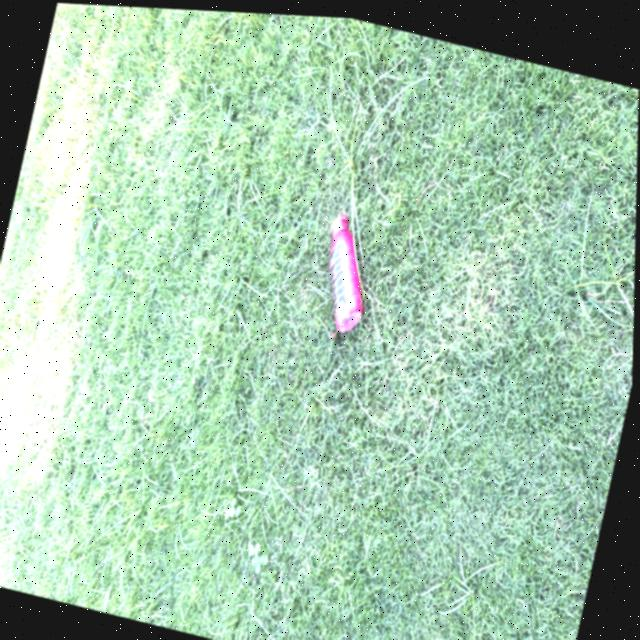Prime - Shitass: (305, 209, 382, 338)
